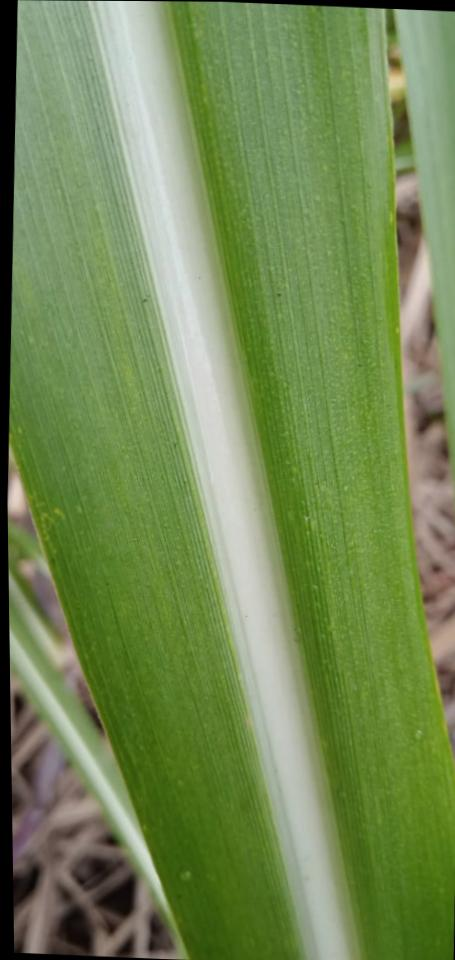Healthy: (8, 0, 455, 960)
